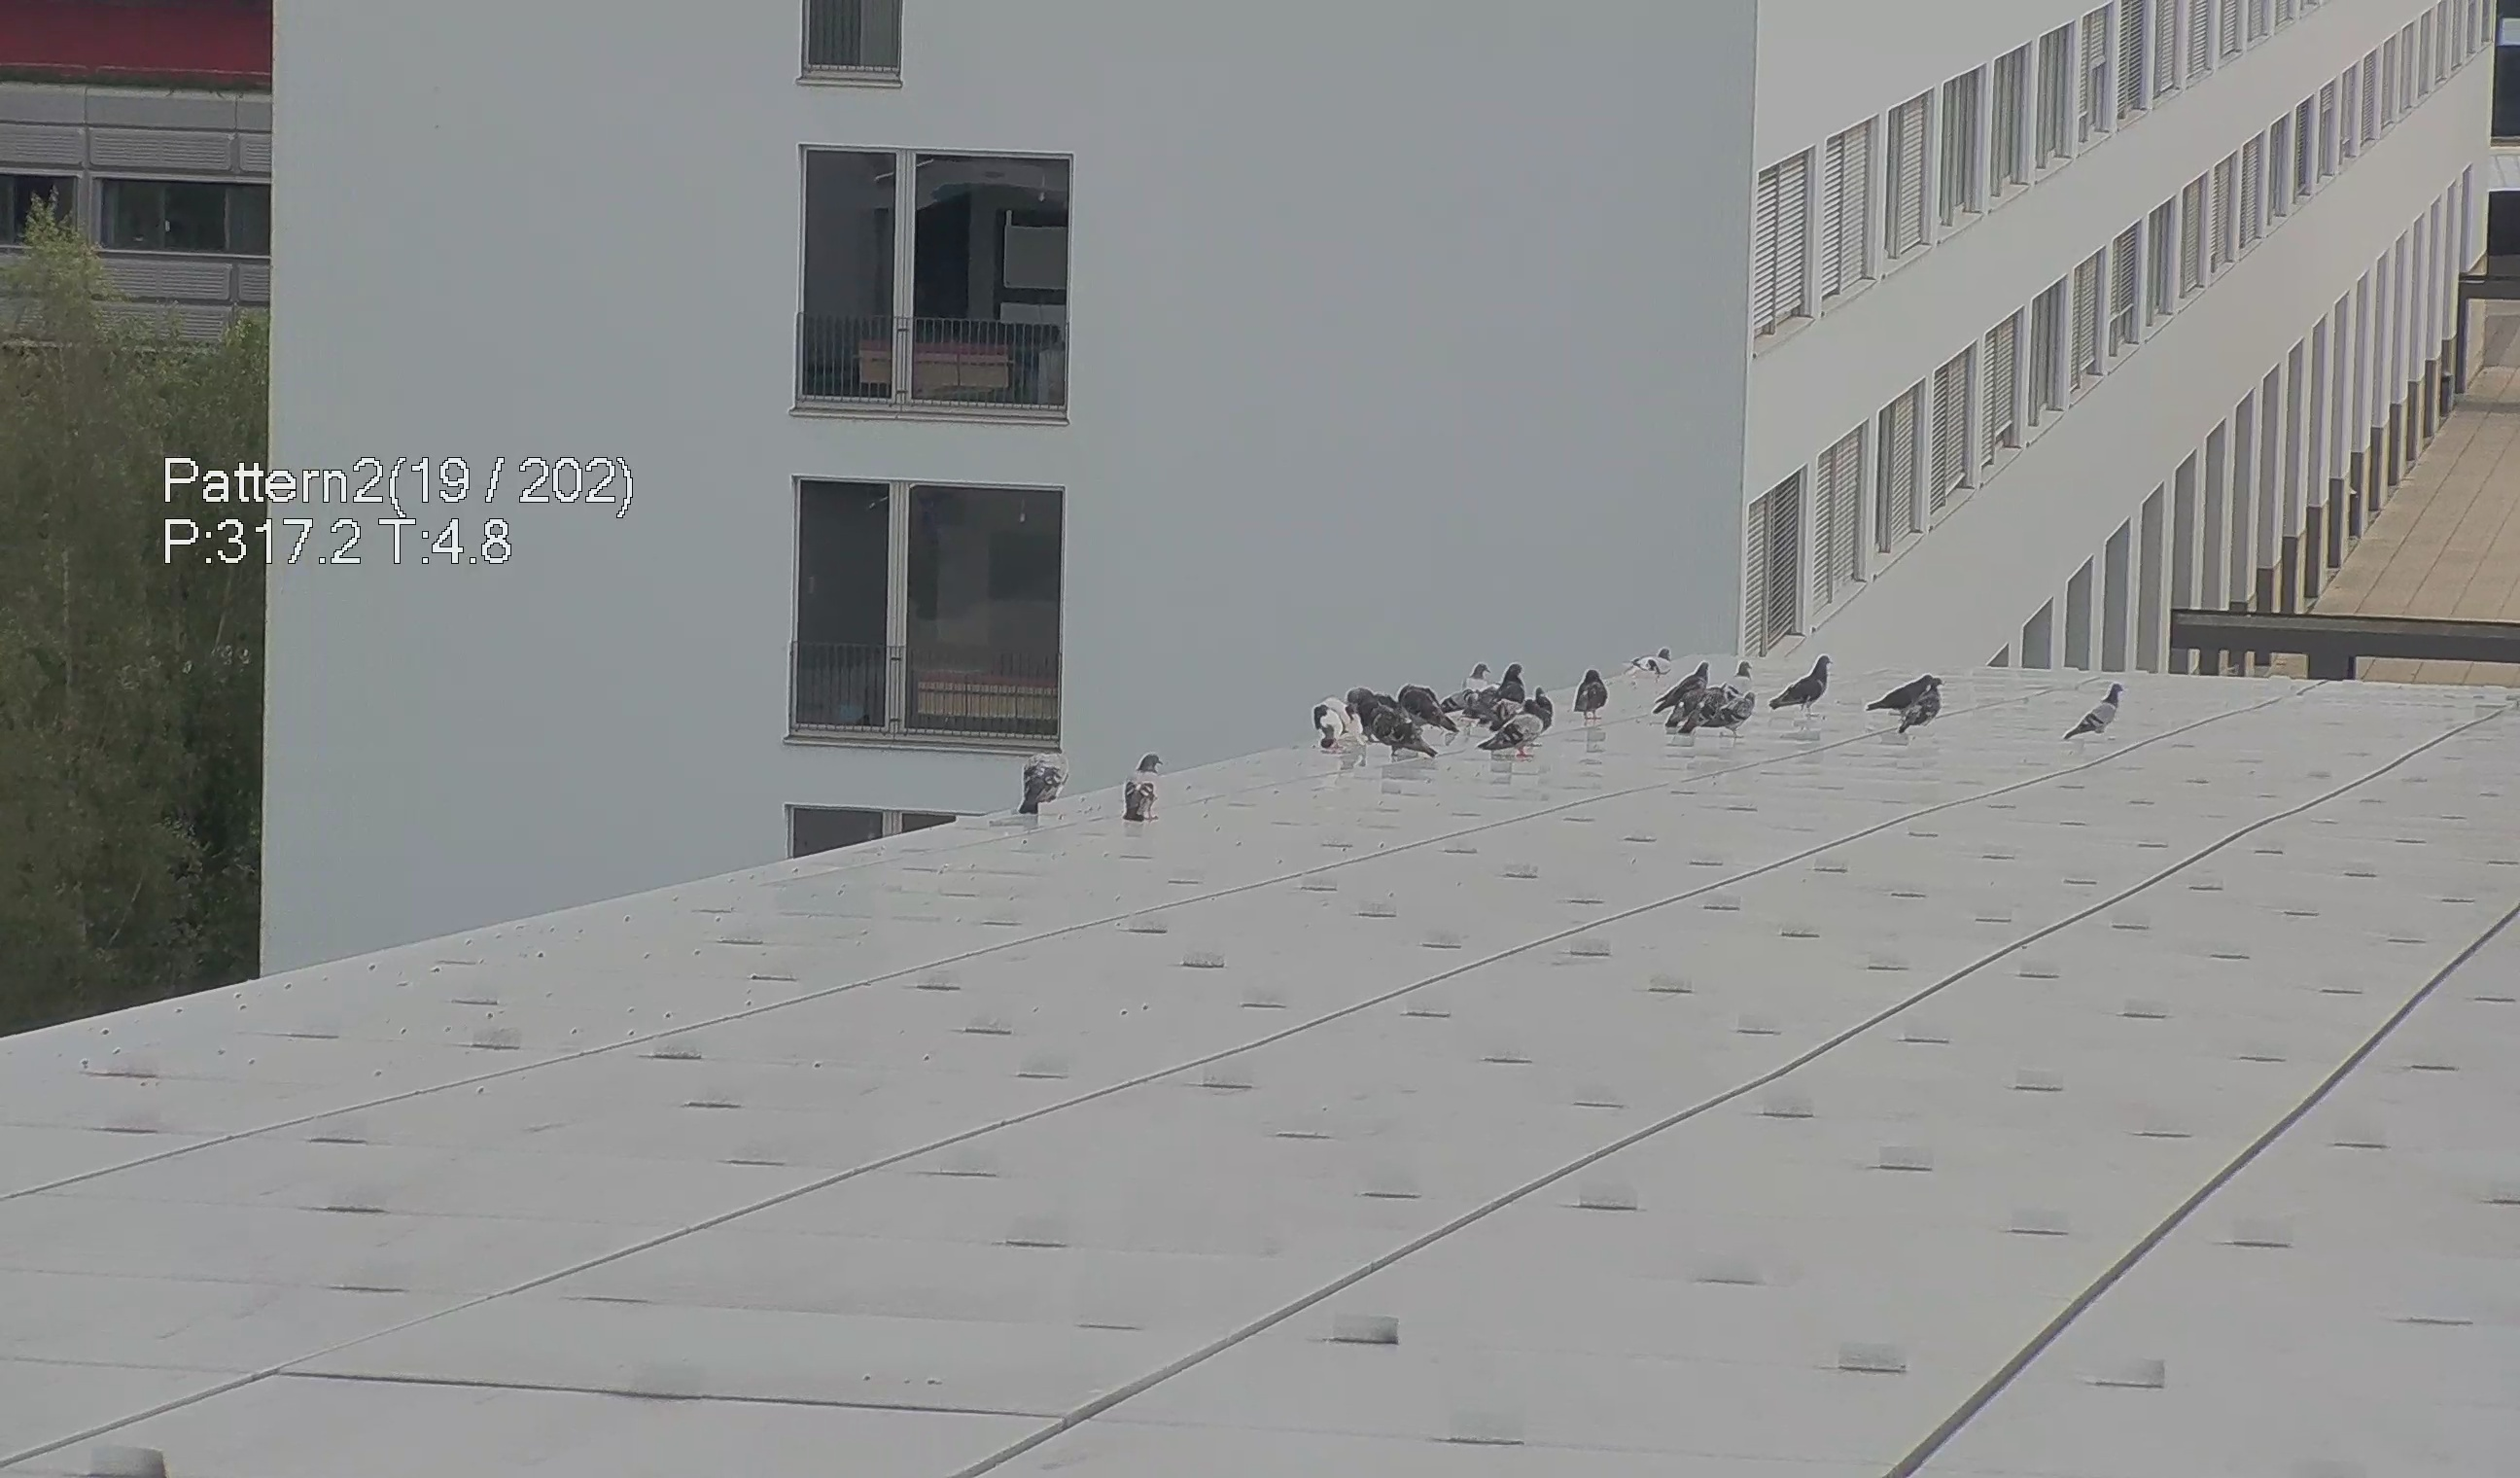Pigeon: (1015, 735, 1080, 818), (1774, 644, 1846, 716), (1479, 695, 1551, 764), (1887, 669, 1956, 739), (2065, 677, 2135, 743), (1864, 663, 1941, 720), (1365, 700, 1437, 758), (1115, 746, 1164, 829), (1301, 690, 1368, 750), (1651, 658, 1715, 713), (1391, 679, 1456, 732), (1695, 690, 1759, 741), (1475, 660, 1528, 716), (1621, 642, 1681, 686), (1570, 662, 1611, 721), (1715, 658, 1757, 691), (1461, 660, 1493, 697)
